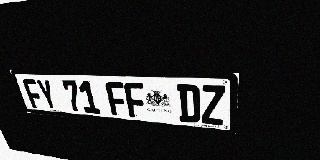1: (76, 81, 100, 114)
7: (60, 80, 85, 113)
D: (177, 84, 201, 123)
F: (123, 82, 148, 118), (105, 82, 129, 117), (22, 79, 45, 109)
Y: (35, 79, 59, 110)
Z: (201, 85, 225, 125)
